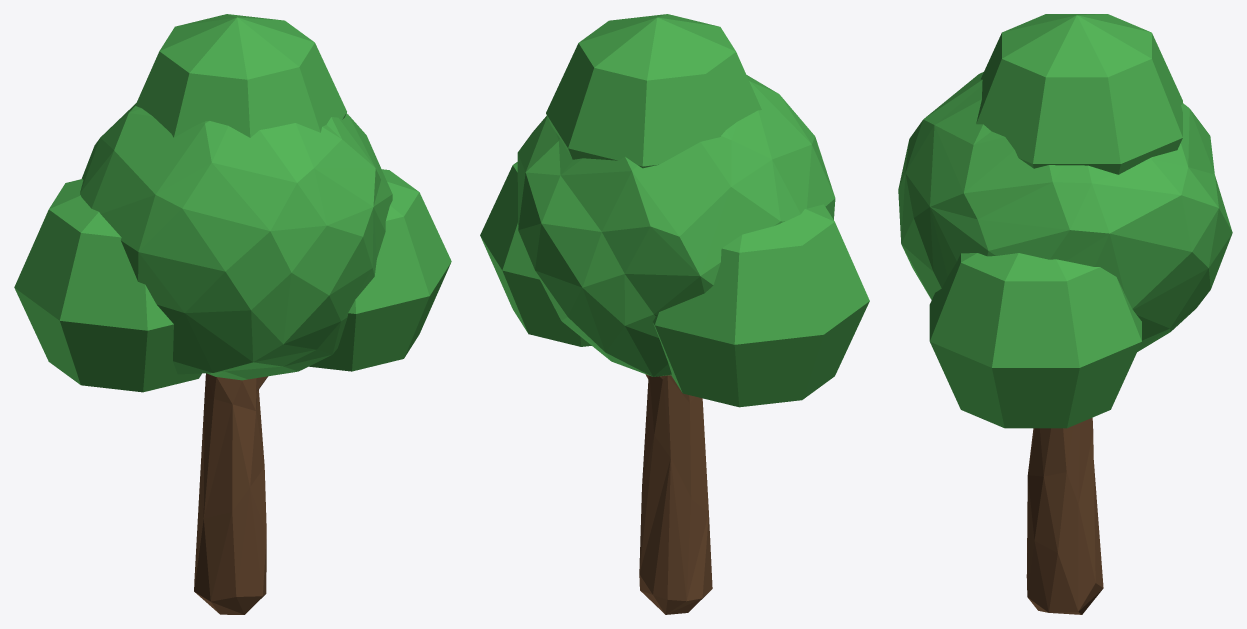
File: tree.glb
The picture shows the model from 3 angles, left to right: view 1: azimuth 30°, elevation 25°; view 2: azimuth 150°, elevation 25°; view 3: azimuth 270°, elevation 25°; orthographic projection. The views are drawn at different scales.
Parts seen in each view (by area): view 1: root; view 2: root; view 3: root.
Boxes of the visible parts, bbox=[...] form: root: bbox=[14, 14, 451, 614]; root: bbox=[480, 14, 869, 614]; root: bbox=[898, 14, 1232, 614].
Size of the model in its own units: 1.6 by 2.45 by 1.22.
